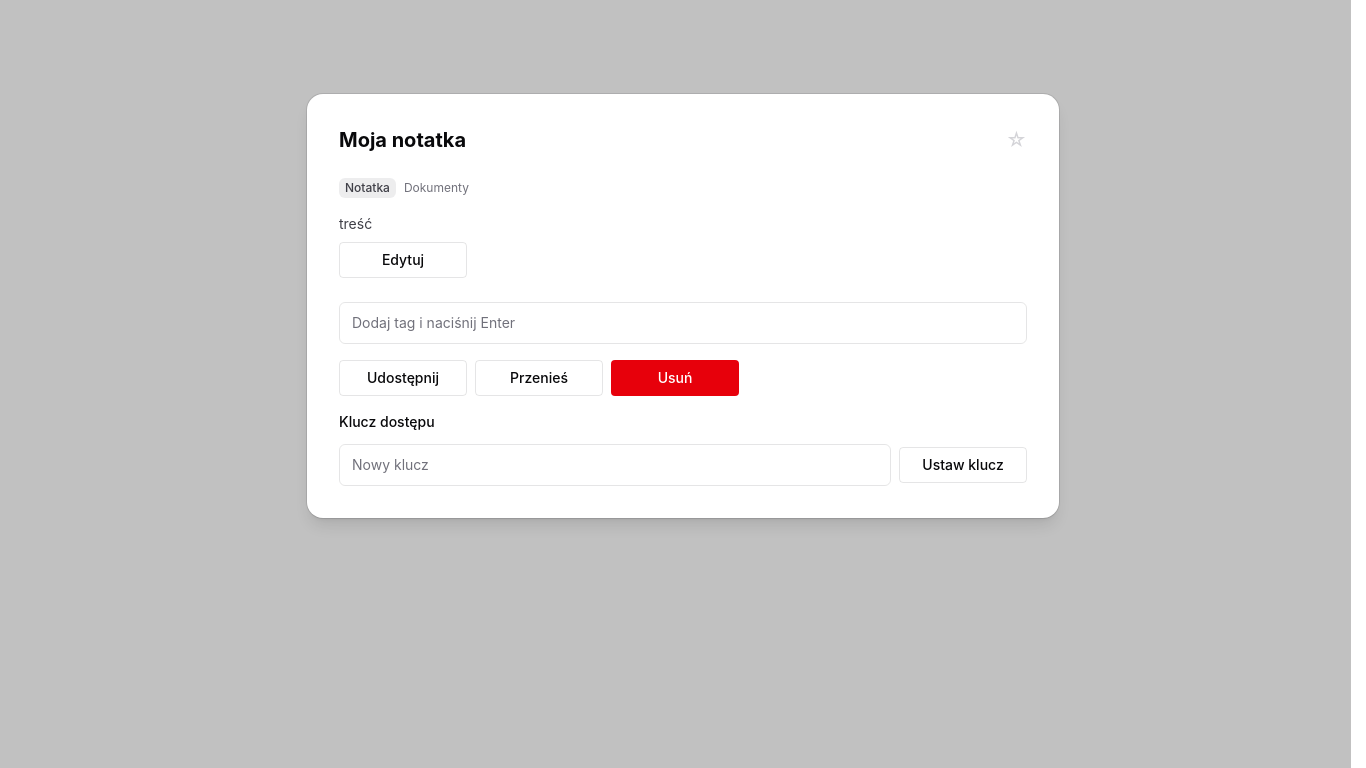
Scenario: ItemDetailsModal › disables the move submit button while the target is unchanged
This screenshot has width=1366, height=768.
Expected: the heading "Moja notatka" is shown, [339,126,466,154]
Click the button "Przenieś" at [539, 378], box [475,360,603,396]
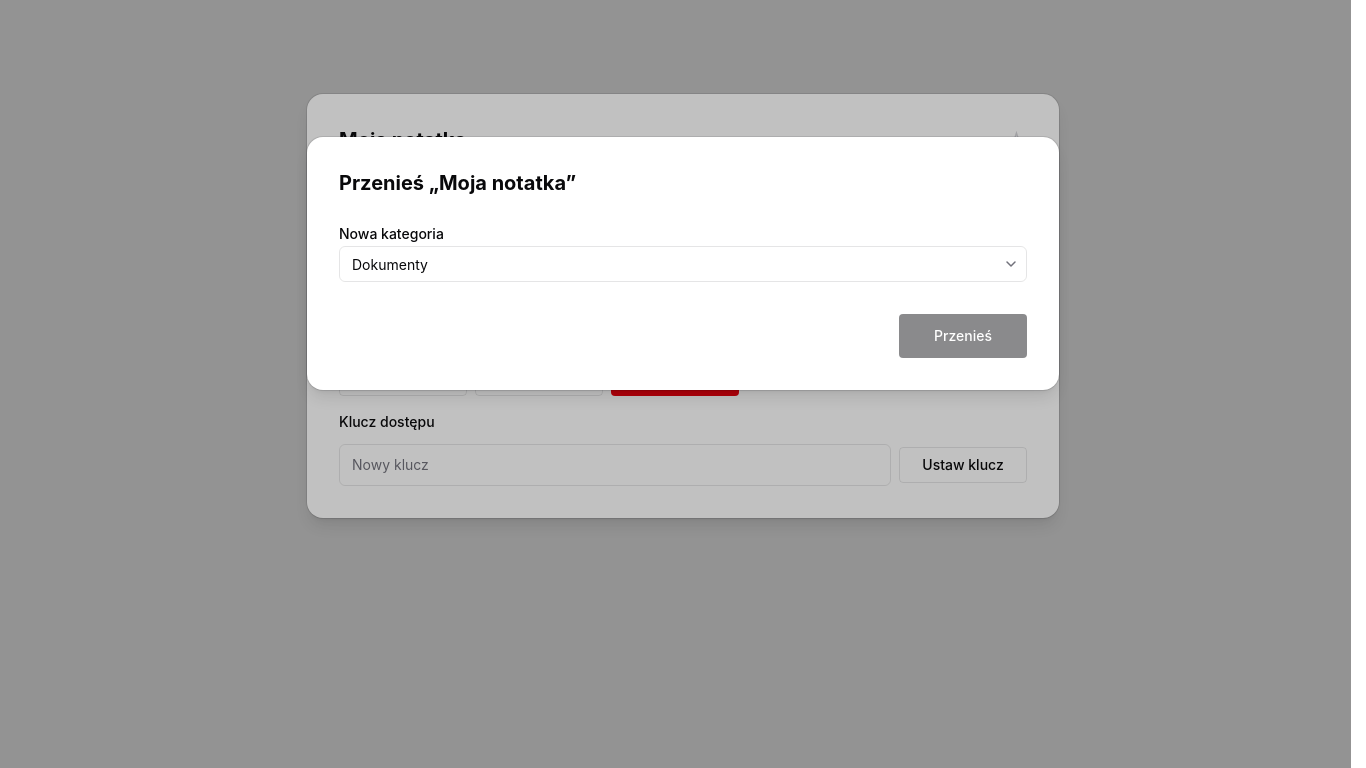
Now the dropdown labelled "Nowa kategoria" is shown, box [339,246,1027,282]
Now the button "Przenieś" is disabled, box [899,314,1027,358]
